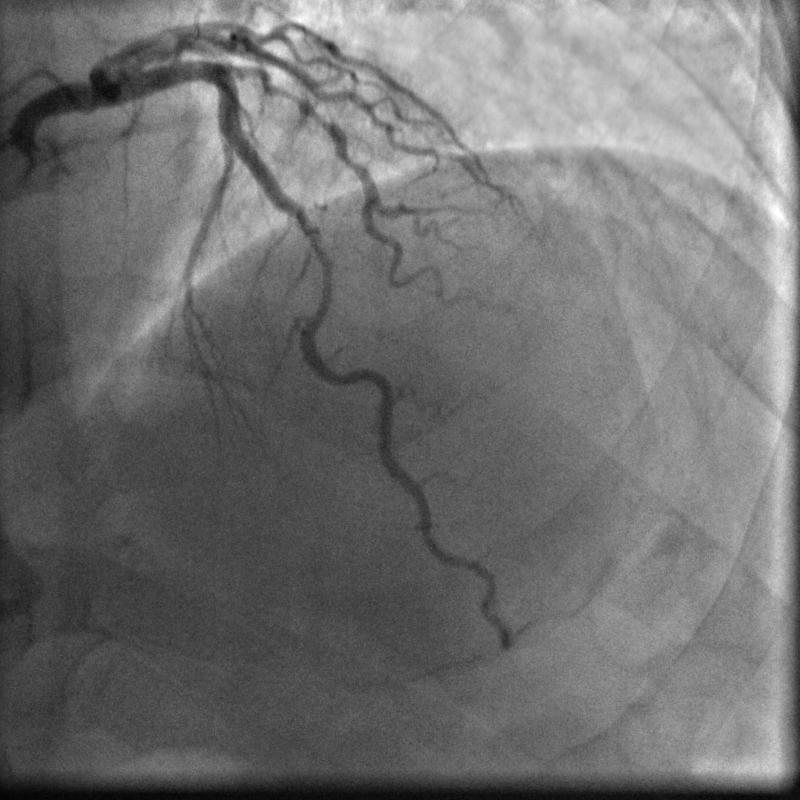Stenosis: (294, 222, 333, 318)
